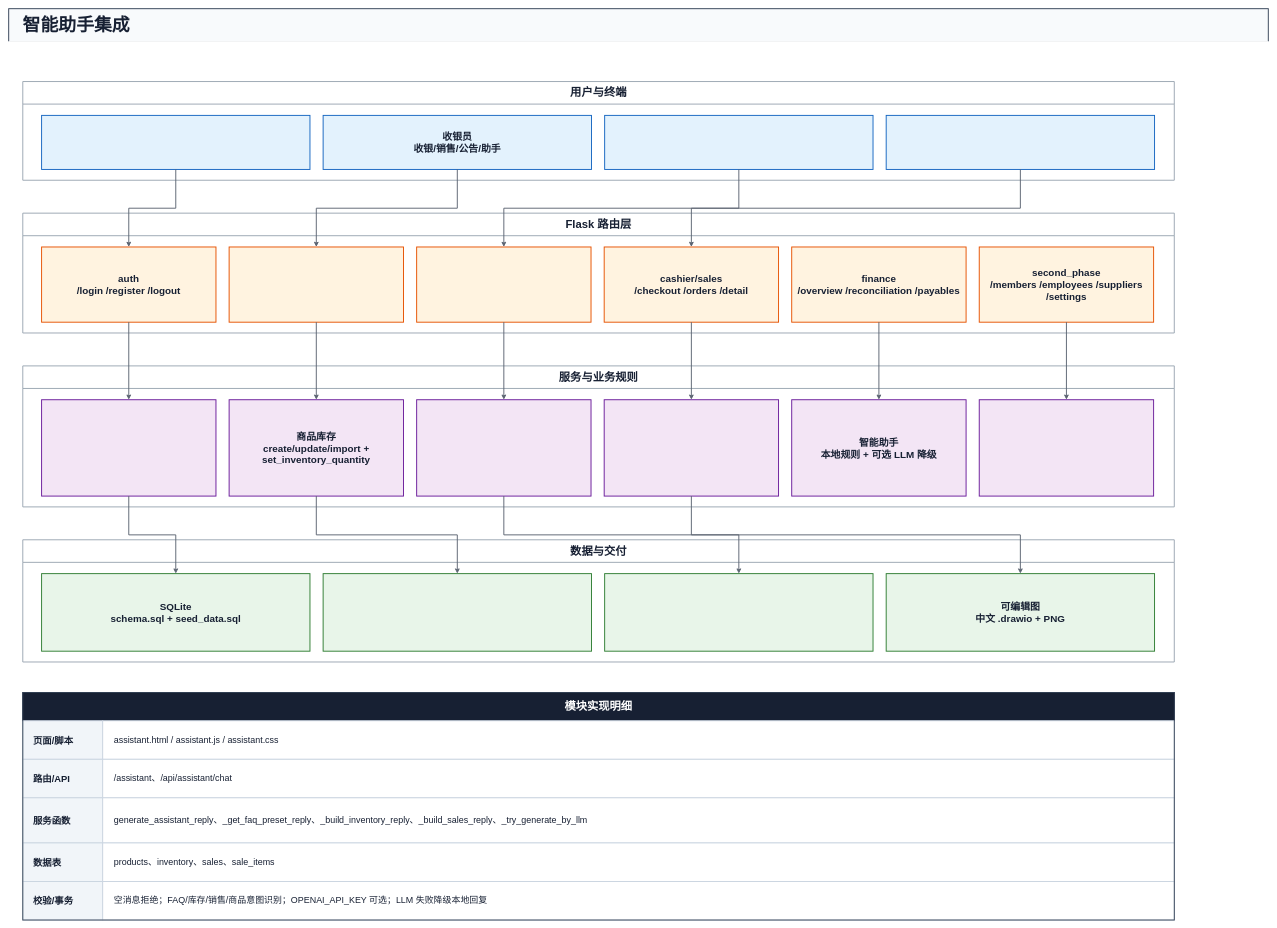
Some shapes in this 1277 by 928 pixel diagram are drawn without their labels. The centre of each missing label's shape, as x and y in pixels:
18 张表 业务表、审计表、二期主数据: [457,612]
inventory /summary /list /logs /alerts: [503,284]
product /api/products /import /categories: [316,284]
店长/财务 分析/对账/验收: [738,142]
报告 docx + 57 主图 + 12 用例图: [738,612]
收银事务 sales + sale_items + inventory_logs: [503,447]
权限 login_required/admin_required: [128,447]
架构图｜分层、模块、接口、数据表、权限边界: [638,51]
测试 pytest + coverage 100%: [1066,447]
浏览器 Jinja2 页面 + JS fetch: [1020,142]
管理员 商品/库存/财务/公告/二期主数据: [175,142]
财务事务 transactions + reconciliation + payables: [691,447]
